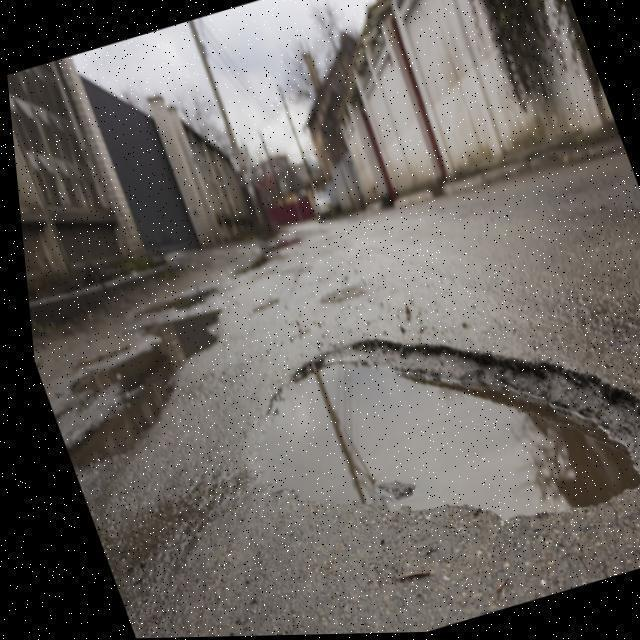Pothole: (240, 334, 640, 519), (51, 307, 224, 474)
